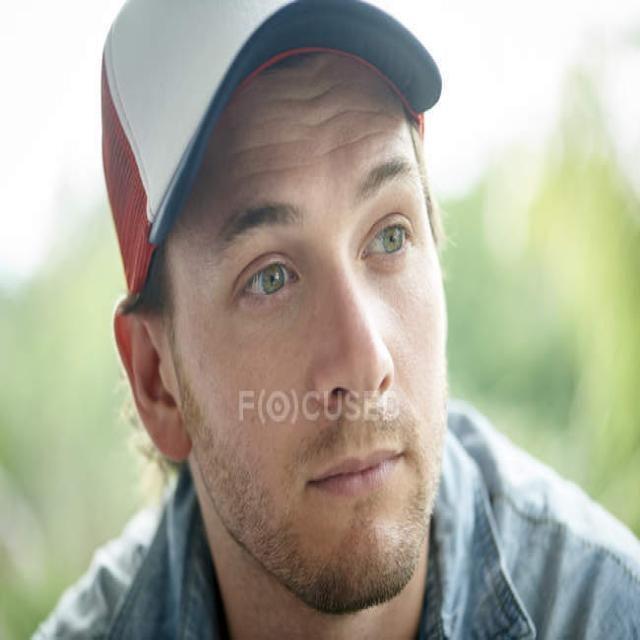cap: (99, 1, 456, 602)
